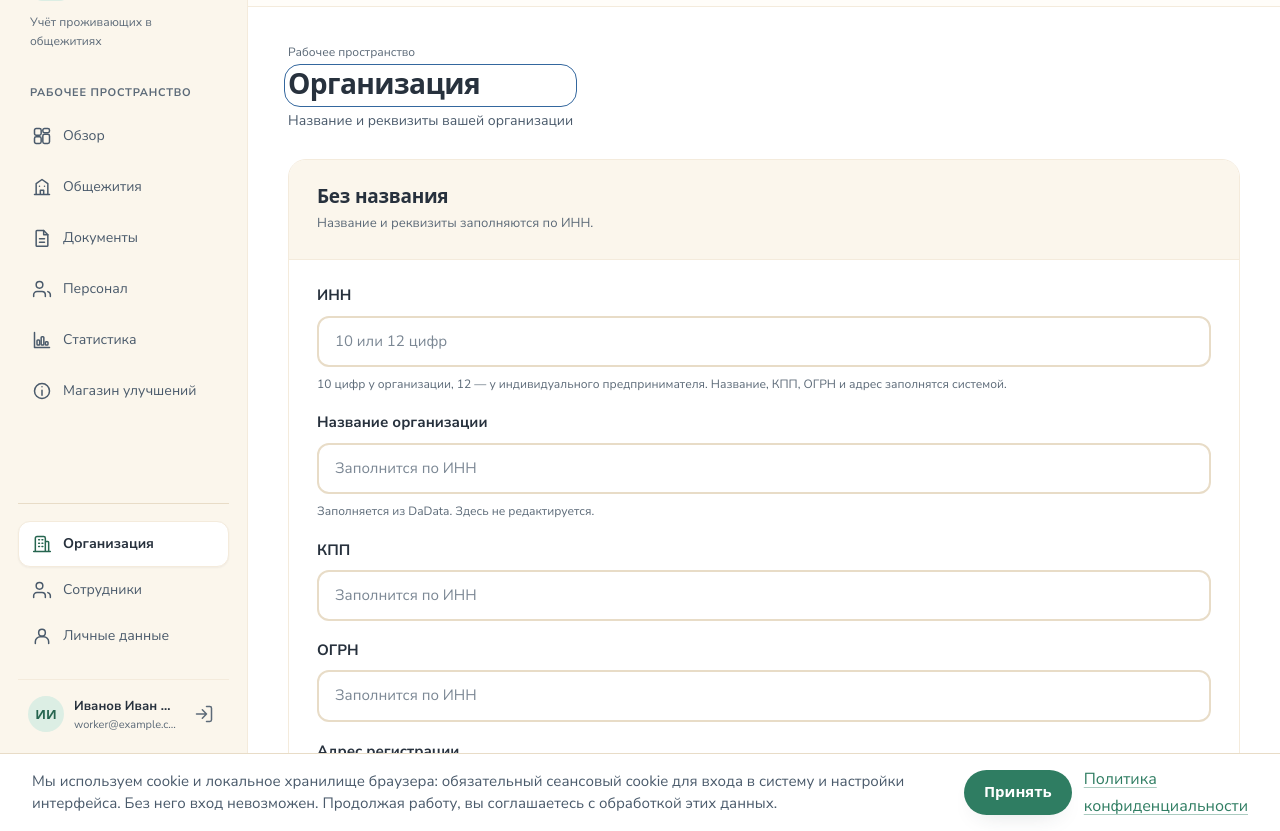
страница организации › не даёт сохранить ИНН, занятый другой организацией
Type "7707083893" into the field with test id "organization-inn". click: (764,341)
box: [317, 316, 1211, 367]
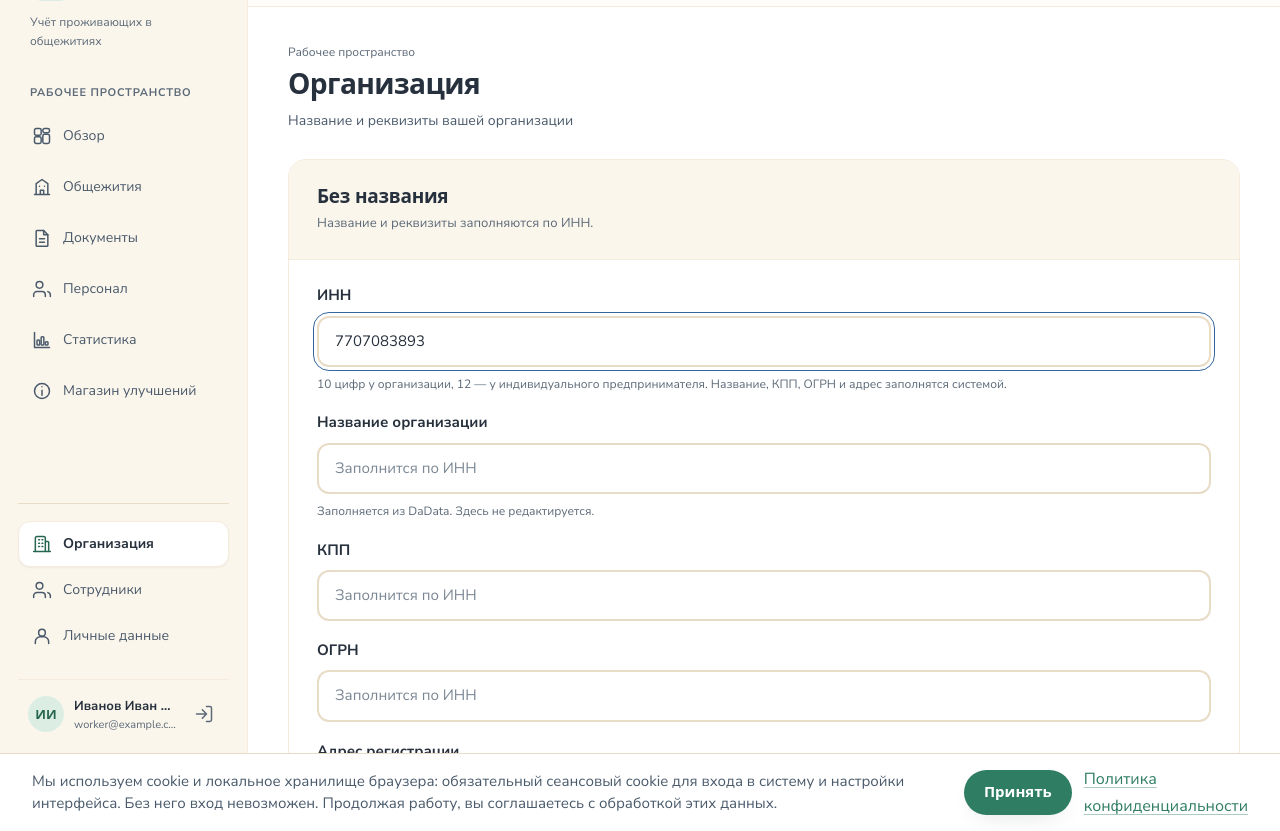
Press Tab
(page scrolled)
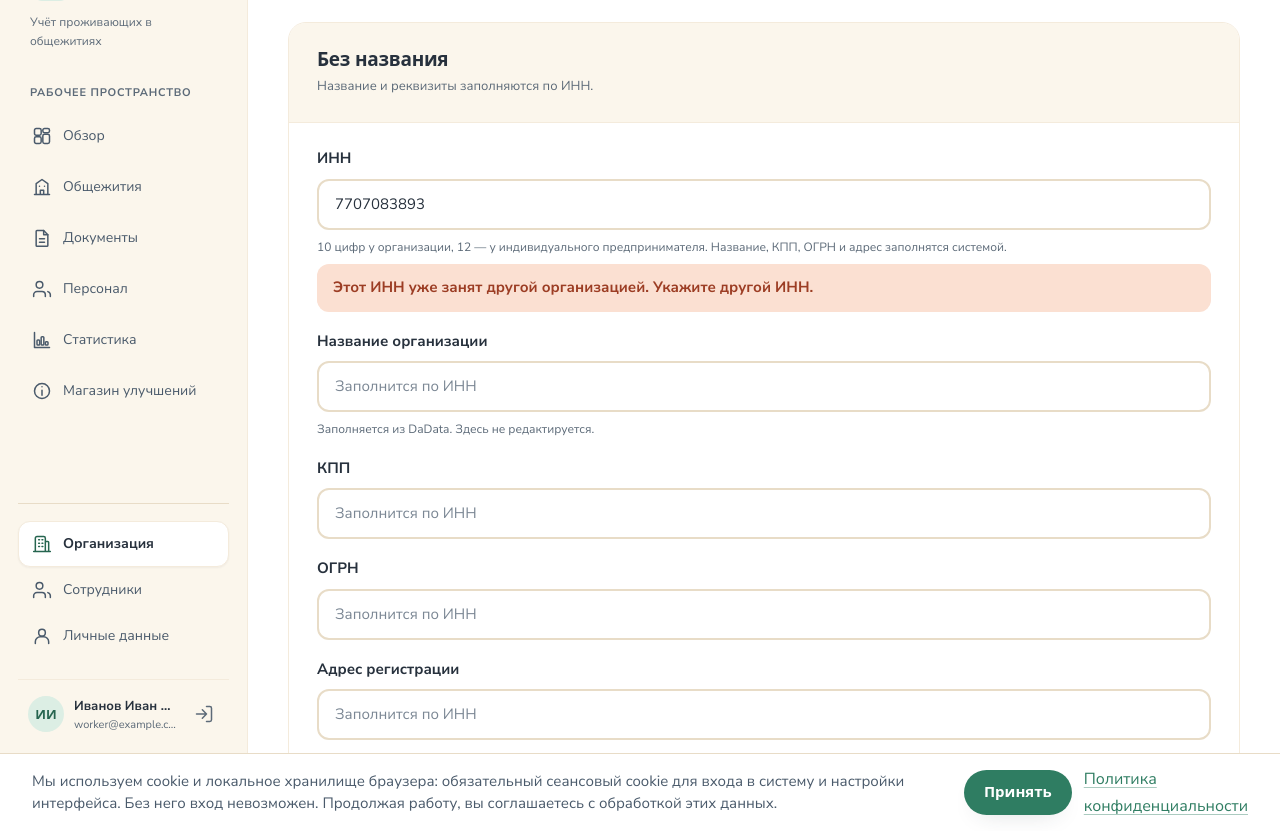
Expected: the field with test id "organization-name" is empty, [317, 361, 1211, 412]
Now the message with test id "organization-lookup-error" shows "Этот ИНН уже занят другой организацией", box [333, 278, 813, 298]
Now the message with test id "organization-lookup-error" shows "Укажите другой ИНН", box [333, 278, 813, 298]
